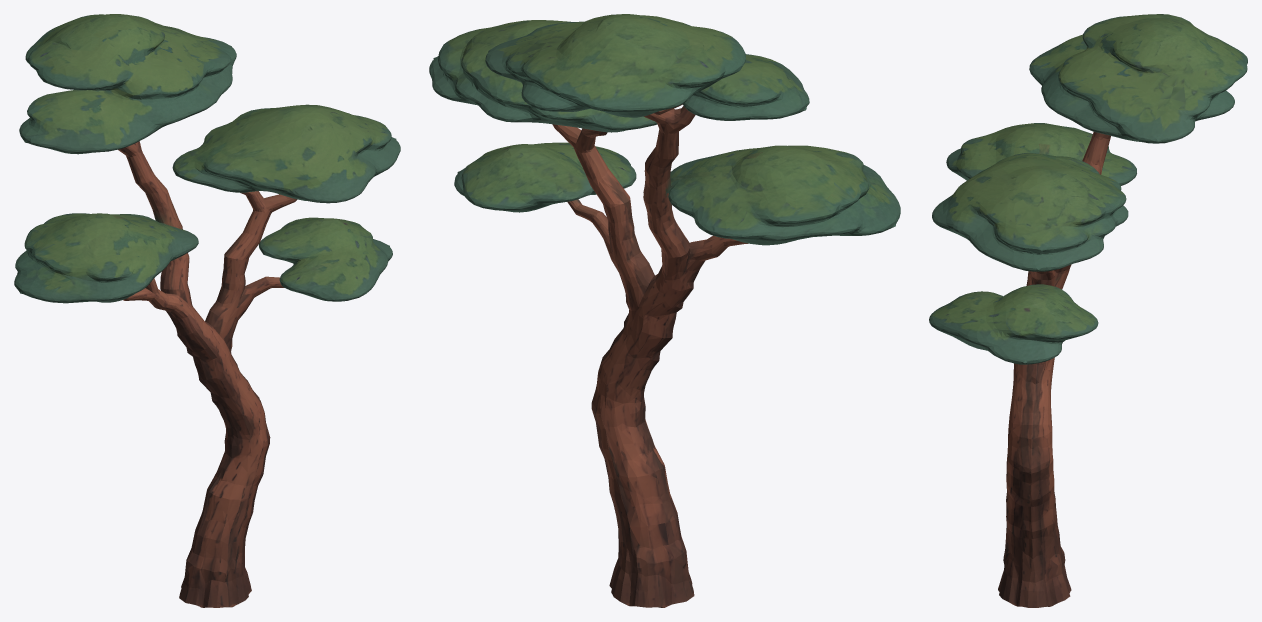
Rendered from pine_tree.glb.
3 renders of one model, left to right at view 1: azimuth 30°, elevation 25°; view 2: azimuth 150°, elevation 25°; view 3: azimuth 270°, elevation 25°, orthographic. The views are drawn at different scales.
Visible parts, largest first — view 1: pine_tree; view 2: pine_tree; view 3: pine_tree.
Boxes of the visible parts, <box> form: pine_tree: <box>14,14,400,607</box>; pine_tree: <box>429,14,900,607</box>; pine_tree: <box>929,14,1247,607</box>.
Bounding box in the file's own units: 5.22 × 7 × 3.71.
1 material, 1 textured.
